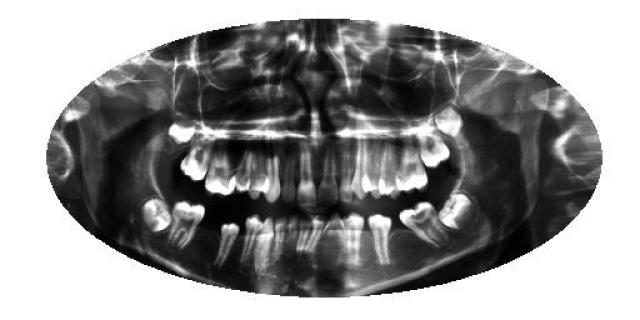Restorations: (435, 188, 476, 232), (136, 196, 172, 235)
